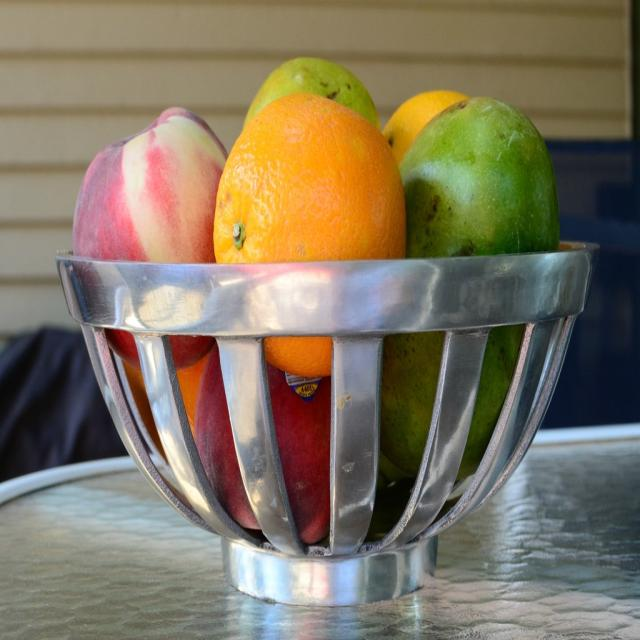Peach: (70, 105, 229, 374), (196, 348, 330, 548)
